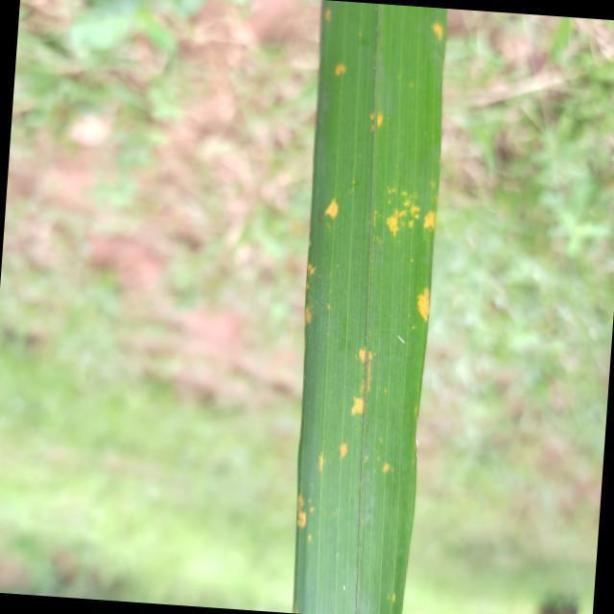Kalium: (296, 0, 452, 614)
